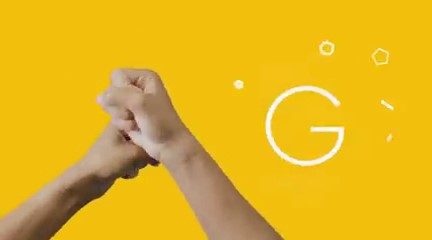F: (80, 59, 187, 196)
